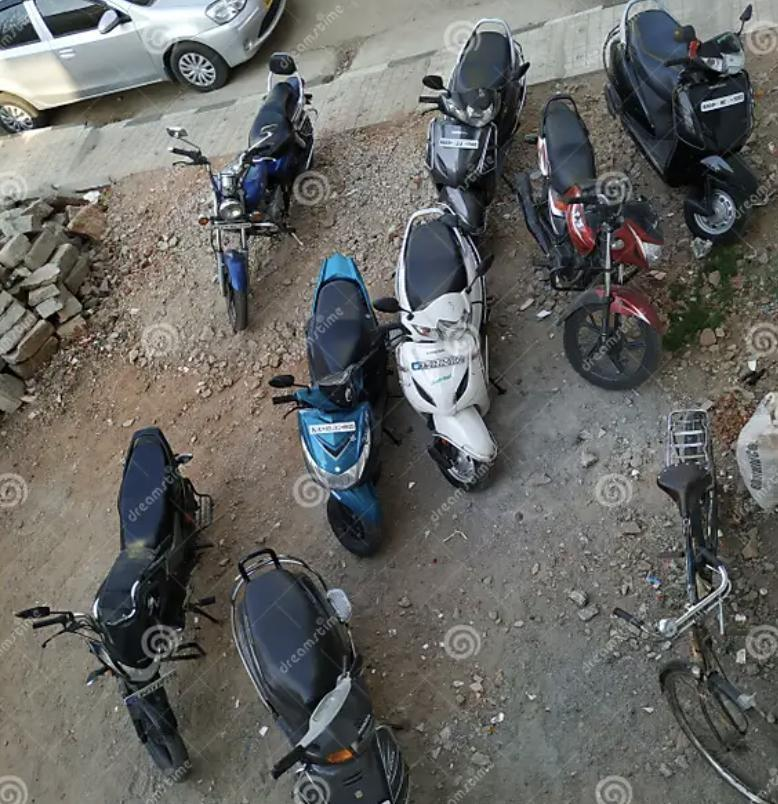Car: (0, 0, 286, 132)
Motorcycle: (16, 427, 214, 782), (231, 548, 408, 804), (168, 52, 328, 332), (514, 94, 664, 390), (603, 0, 758, 243), (268, 253, 388, 556), (374, 206, 498, 492), (419, 18, 529, 236)
